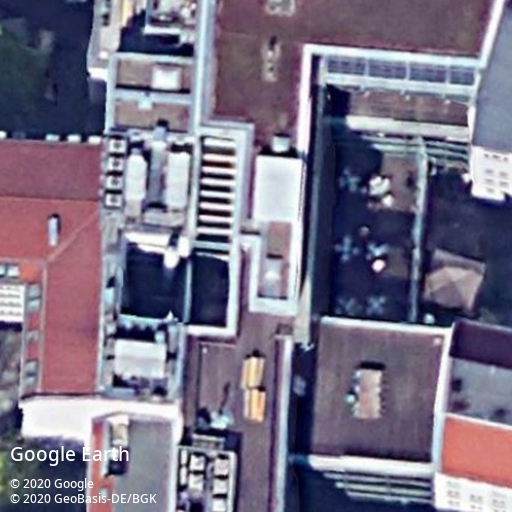Chiller: (106, 155, 127, 174), (107, 137, 129, 155), (103, 192, 125, 210), (104, 174, 126, 191)
